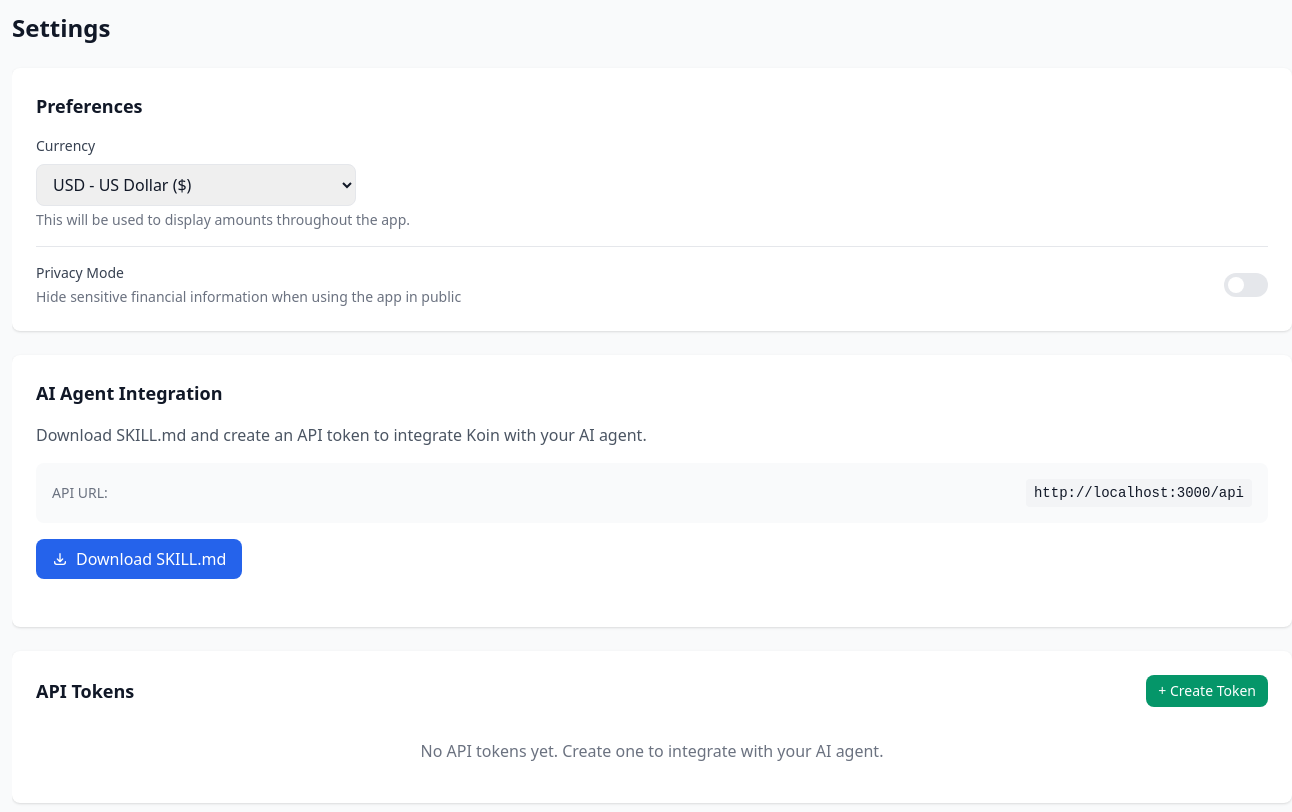
Scenario: SettingsPage › can change currency
Step 1. Select "EUR - Euro (€)" in the dropdown → (196, 185), box [36,164,356,206]
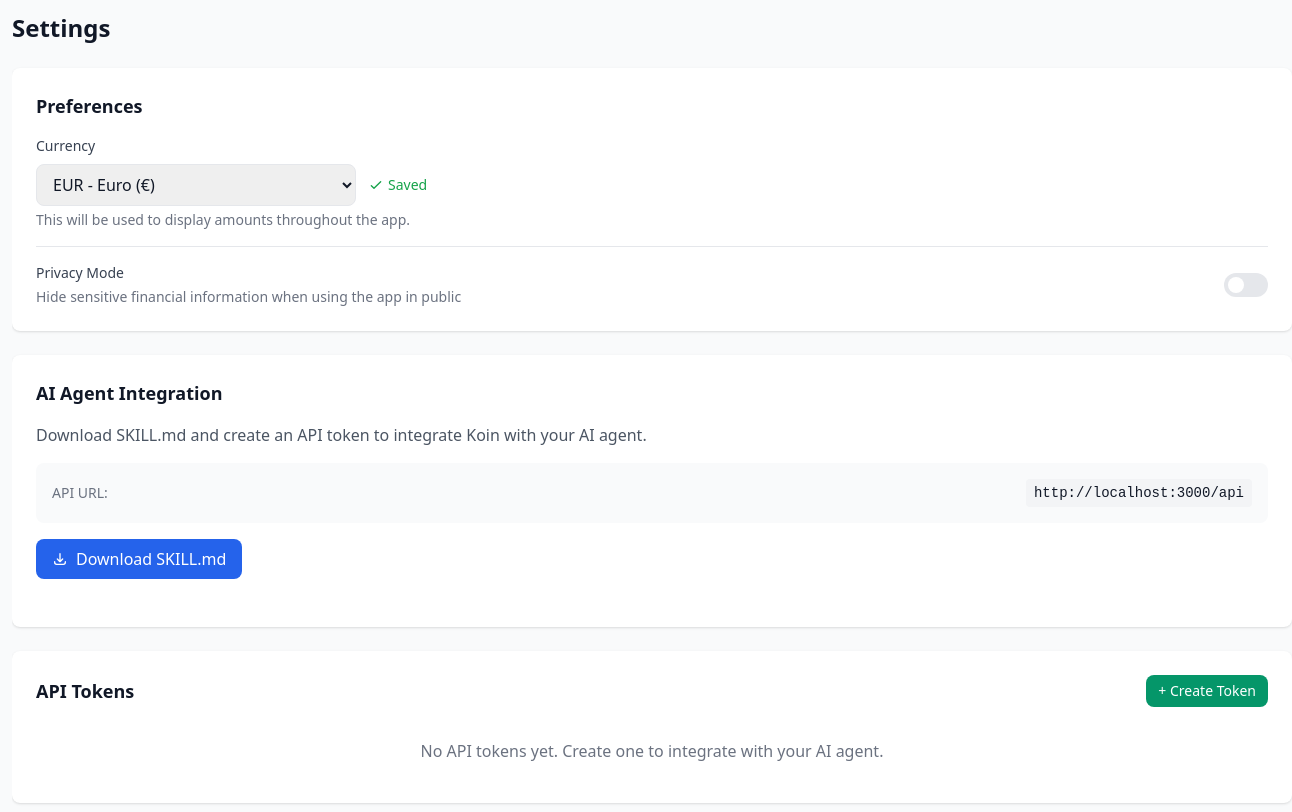
Result: the text "Saved" is shown at [368,175,427,195]
